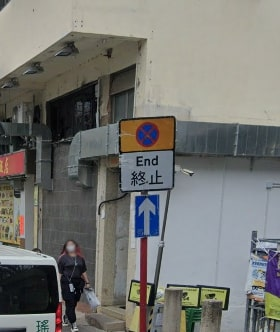End Of No Stopping: (117, 115, 179, 196)
One Way Traffic: (134, 194, 162, 243)
